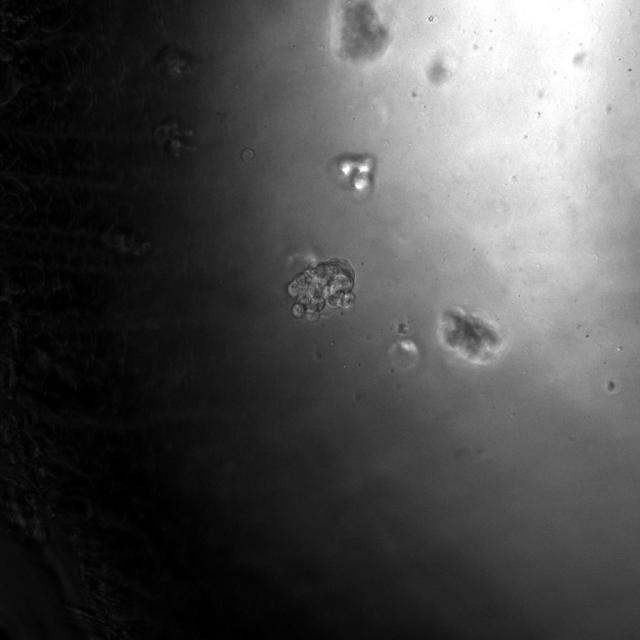organoid: (288, 258, 354, 320), (438, 307, 504, 365), (341, 0, 389, 59), (327, 153, 376, 197)
